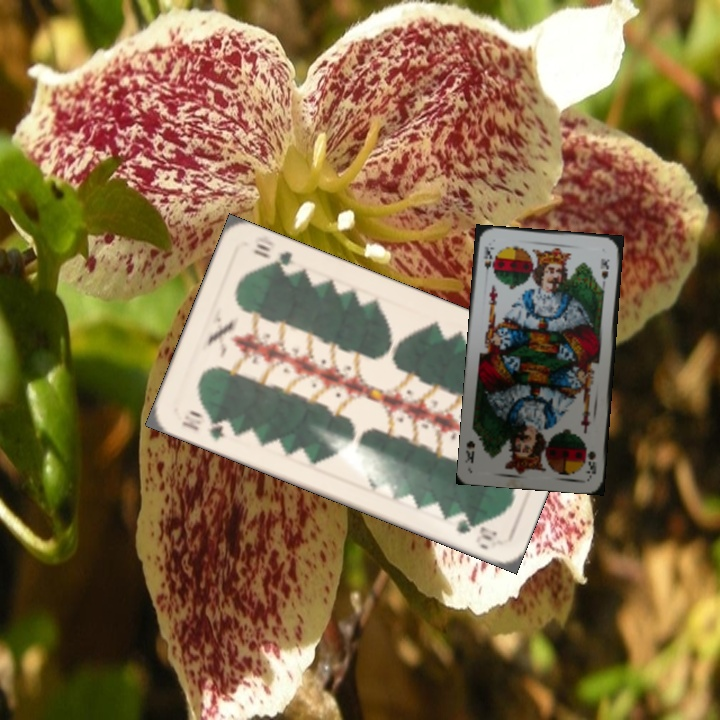G10: (177, 413, 227, 443)
SK: (479, 242, 497, 281), (581, 447, 599, 477)
